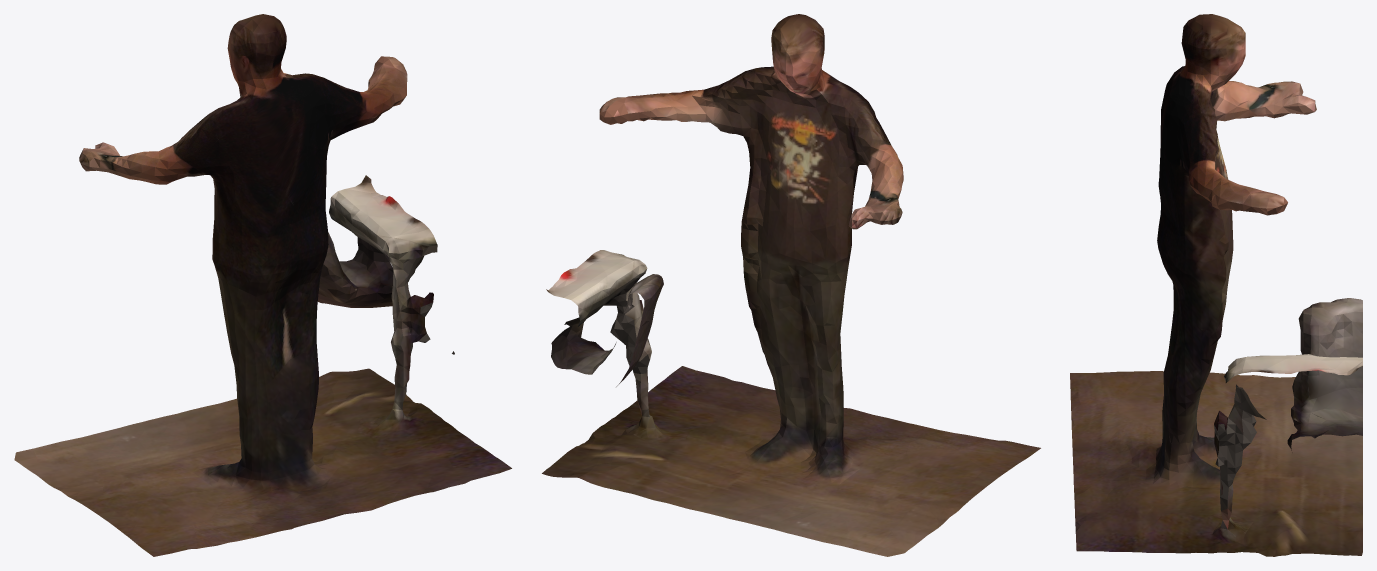
Rendered from mbo_friends_Liam.glb.
The picture shows the model from 3 angles, left to right: view 1: azimuth 30°, elevation 25°; view 2: azimuth 150°, elevation 25°; view 3: azimuth 270°, elevation 25°; orthographic projection.
Size of the model in its own units: 1.52 by 1.82 by 1.07.
Materials: 1 (1 with a texture image).
